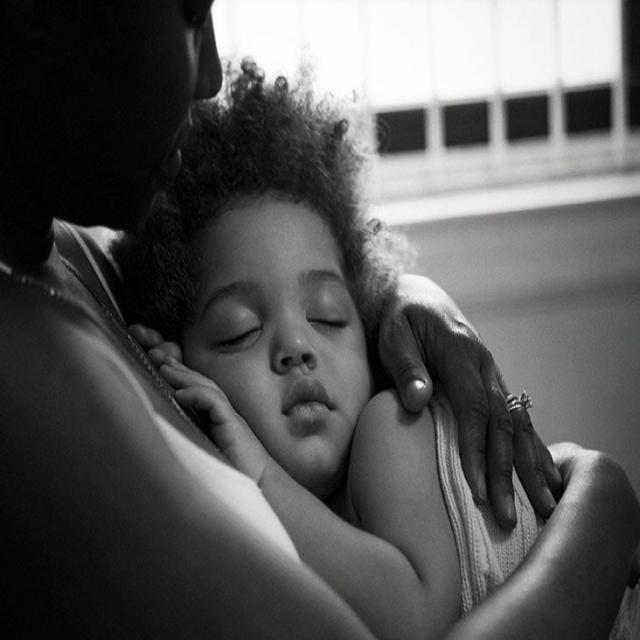adult: (0, 0, 640, 640)
child: (123, 87, 566, 640)
